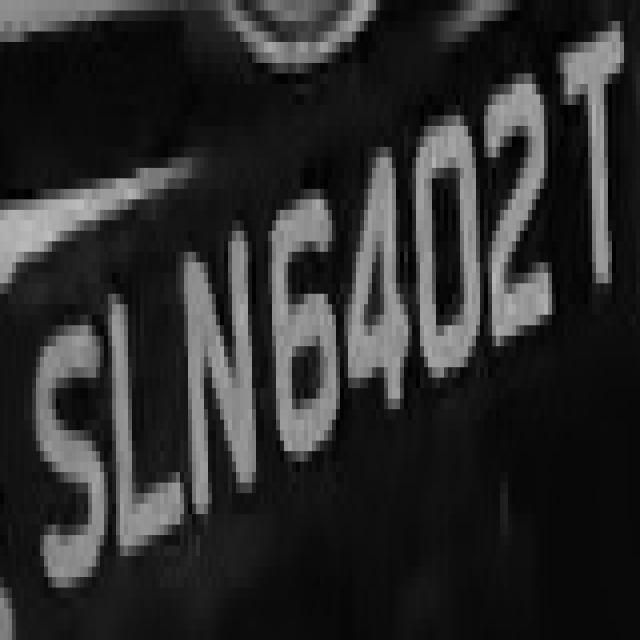0: (400, 84, 488, 399)
2: (476, 31, 560, 378)
4: (340, 116, 412, 462)
6: (264, 157, 344, 493)
L: (96, 252, 184, 577)
N: (172, 220, 276, 535)
S: (28, 294, 104, 629)
T: (548, 21, 636, 336)
